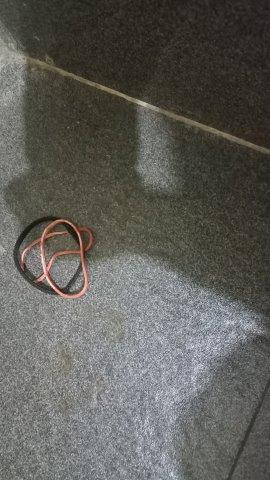karet: (12, 216, 94, 299)
